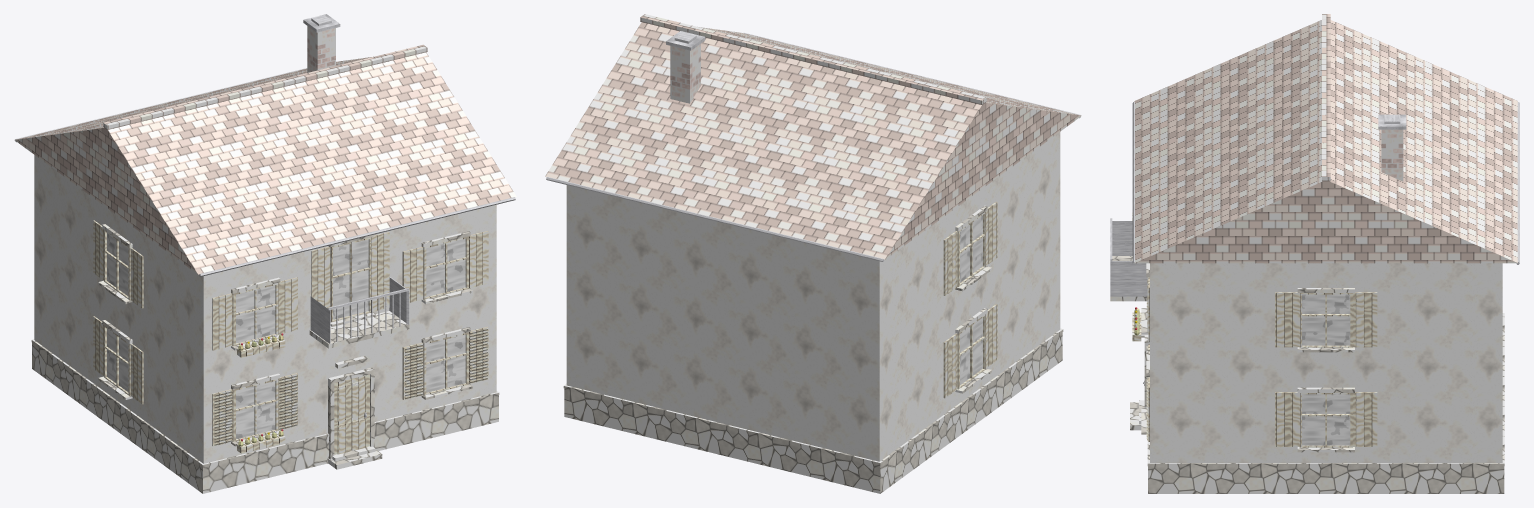
Rendered from casa_piazza.obj.
3 views of the same model, side by side, from view 1: azimuth 30°, elevation 25°; view 2: azimuth 150°, elevation 25°; view 3: azimuth 270°, elevation 25° (orthographic). The views are drawn at different scales.
Visible parts, largest first — view 1: tegole_002, intonaco_000, pietra_001, legno_043, metallo_006, vetro_040, legno_030, legno_026, legno_017, legno_039, pietra_007, vetro_027 (+21 smaller); view 2: intonaco_000, tegole_002, pietra_001, metallo_003, mattone_004, legno_055, legno_059, vetro_056, vetro_052, legno_057, legno_053; view 3: tegole_002, intonaco_000, pietra_001, legno_051, legno_047, vetro_044, vetro_048, metallo_006, mattone_004, metallo_003, legno_045, legno_049 (+2 smaller).
Boxes of the visible parts, x1,y1,x2,y2 form: tegole_002: [14, 44, 516, 274]; intonaco_000: [34, 155, 496, 463]; pietra_001: [31, 339, 499, 493]; legno_043: [311, 232, 389, 311]; metallo_006: [310, 15, 409, 343]; vetro_040: [333, 239, 368, 319]; legno_030: [212, 277, 297, 350]; legno_026: [402, 326, 488, 399]; legno_017: [212, 373, 297, 446]; legno_039: [402, 231, 488, 302]; pietra_007: [309, 311, 409, 368]; vetro_027: [236, 285, 275, 343]; intonaco_000: [566, 132, 1060, 461]; tegole_002: [545, 14, 1081, 259]; pietra_001: [563, 328, 1063, 493]; metallo_003: [546, 33, 1080, 261]; mattone_004: [670, 44, 700, 103]; legno_055: [943, 304, 997, 398]; legno_059: [943, 201, 997, 295]; vetro_056: [960, 215, 982, 282]; vetro_052: [960, 317, 982, 384]; legno_057: [957, 211, 985, 286]; legno_053: [957, 314, 985, 389]; tegole_002: [1134, 14, 1517, 263]; intonaco_000: [1150, 263, 1502, 462]; pietra_001: [1147, 313, 1504, 493]; legno_051: [1275, 292, 1377, 347]; legno_047: [1275, 392, 1377, 446]; vetro_044: [1302, 394, 1350, 445]; vetro_048: [1302, 294, 1350, 345]; metallo_006: [1110, 114, 1400, 296]; mattone_004: [1381, 129, 1403, 181]; metallo_003: [1132, 102, 1519, 264]; legno_045: [1299, 393, 1352, 447]; legno_049: [1299, 293, 1352, 347].
Size of the model in its own units: 8.74 by 8.64 by 9.29.
Materials: 24 (21 with a texture image).
